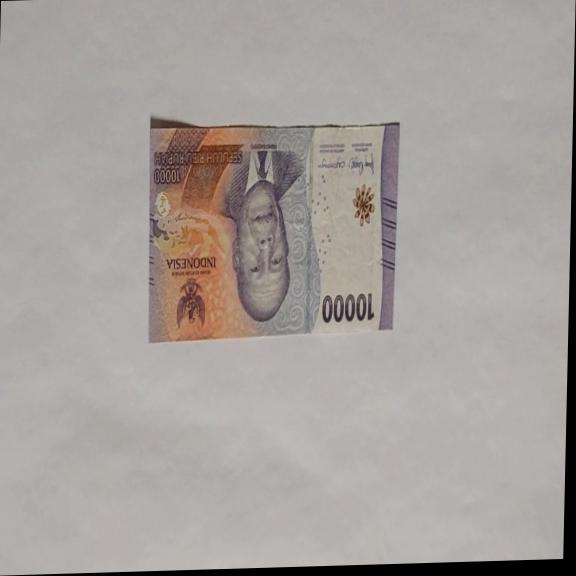Kertas: (144, 114, 399, 344), (321, 290, 375, 326)
